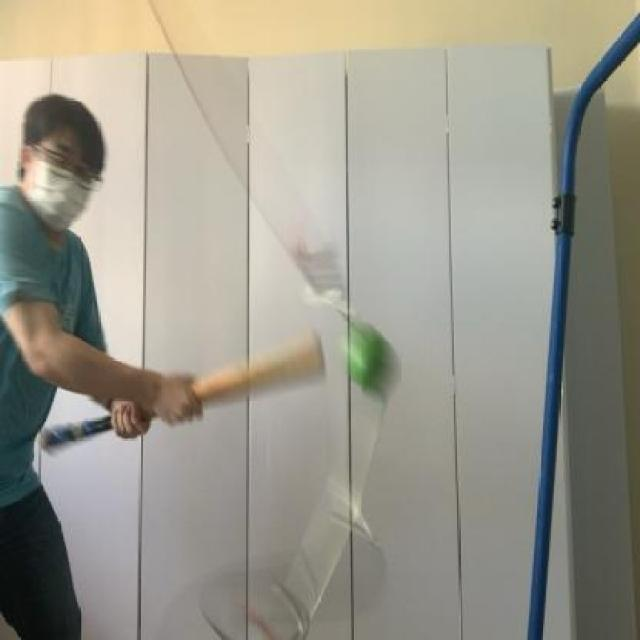baseball: (340, 310, 398, 399)
